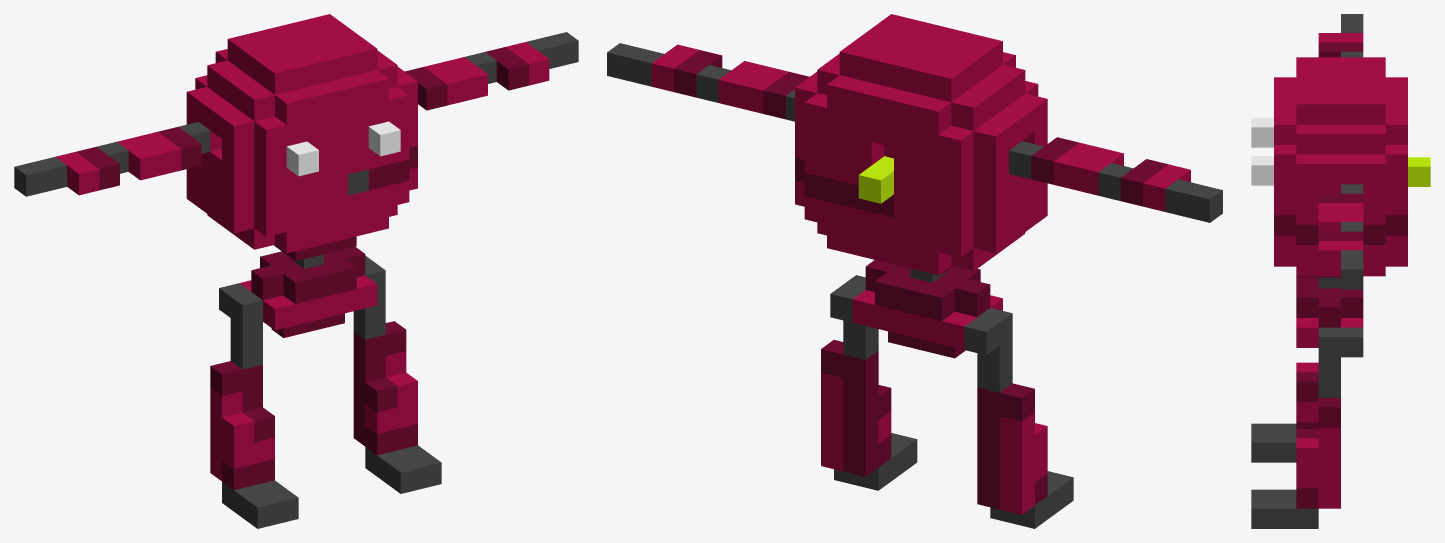
The model's file is robot.obj.
3 renders of one model, left to right at view 1: azimuth 30°, elevation 25°; view 2: azimuth 150°, elevation 25°; view 3: azimuth 270°, elevation 25°, orthographic. The views are drawn at different scales.
Visible parts, largest first — view 1: robot; view 2: robot; view 3: robot.
Part boxes in pixels (x1,y1,x2,y2): robot: (14, 14, 578, 528); robot: (607, 14, 1222, 528); robot: (1251, 14, 1430, 528).
Size of the model in its own units: 27 by 20 by 8.
Materials: 1 (1 with a texture image).
